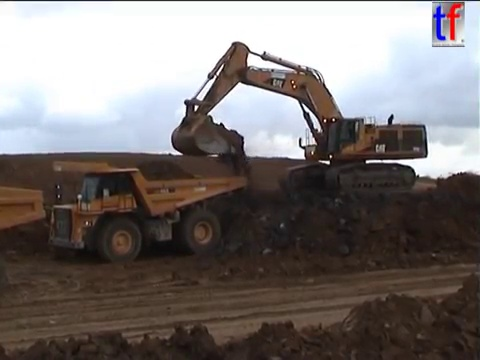excavator: (167, 38, 430, 198)
truck: (46, 158, 248, 264), (1, 184, 48, 298)
